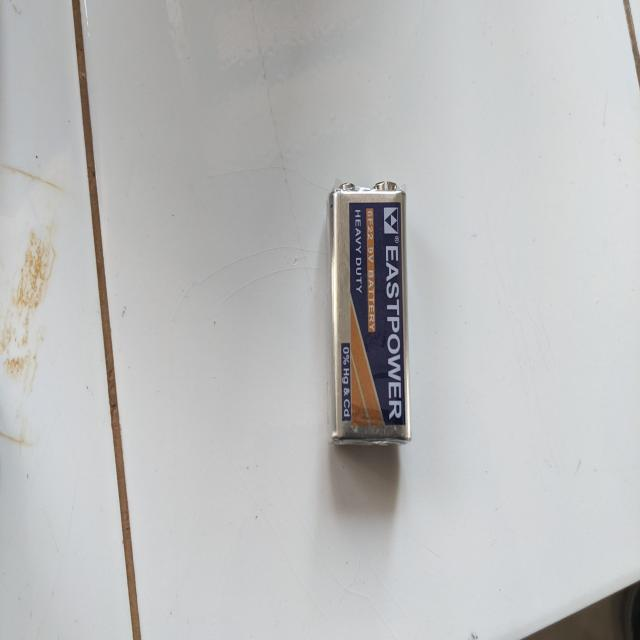Dry Cell: (325, 176, 419, 456)
